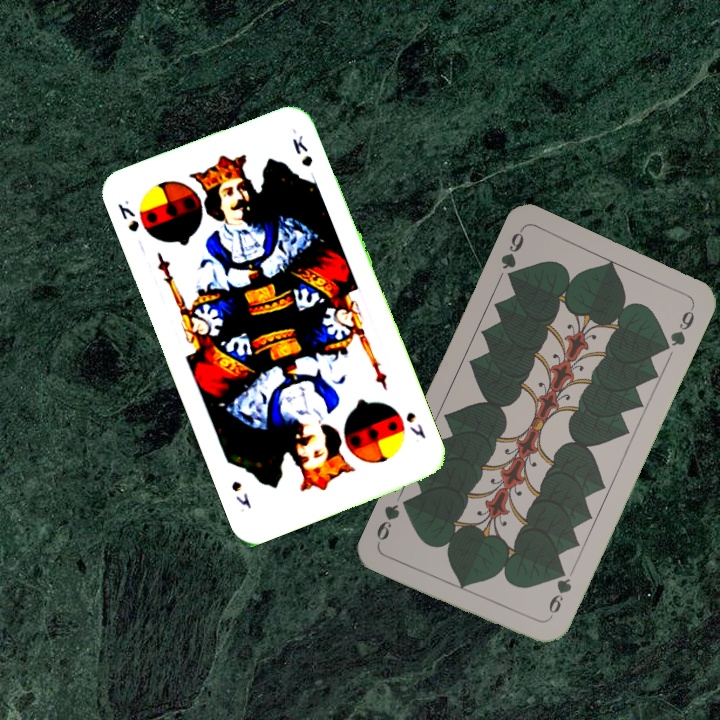G9: (496, 225, 527, 286), (543, 564, 574, 623)
SK: (113, 196, 142, 235), (401, 407, 429, 441)
